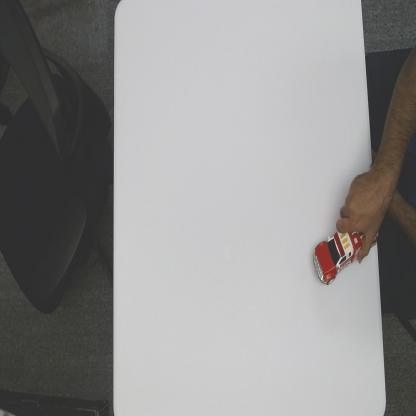Firetruck: (310, 224, 361, 287)
Hand: (339, 163, 379, 263)
